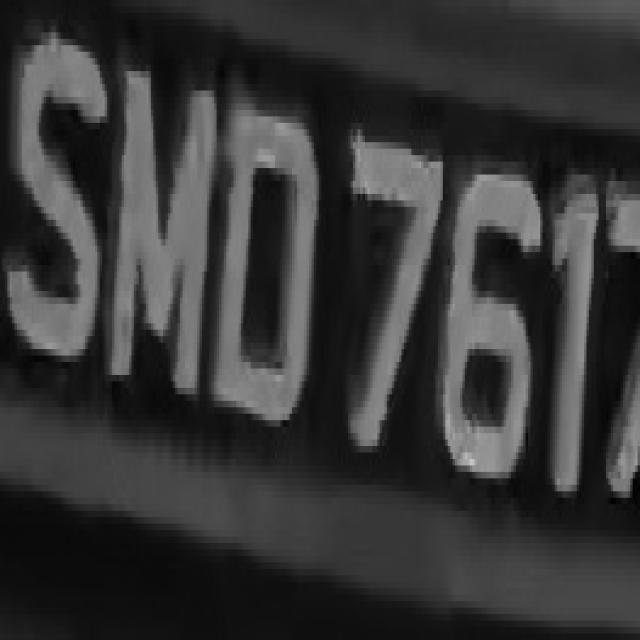1: (550, 142, 599, 524)
6: (448, 149, 535, 504)
7: (341, 90, 443, 485)
D: (216, 58, 316, 446)
M: (110, 39, 214, 414)
S: (12, 0, 102, 375)
